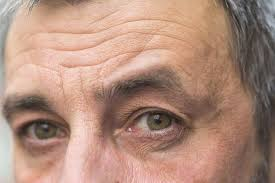puffy eyes: (120, 133, 194, 150), (25, 145, 64, 164)
wrinkles: (27, 18, 216, 67)
